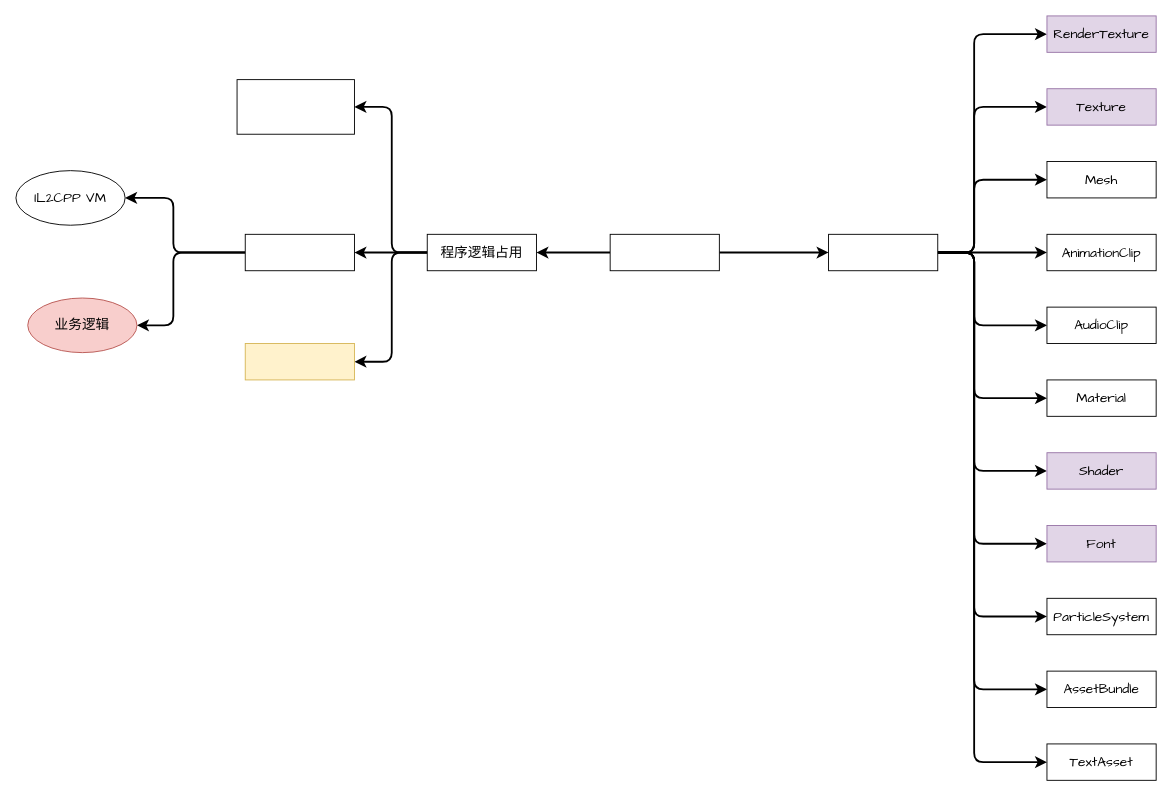
The diagram is 1172 pixels wide and 796 high, and some of its shapes have lost their labels. Here are the shapes that lost their labels. From the top down, the centre of each, then its label:
the point at 295,106: Assembly 程序集
the point at 299,252: 虚拟机
the point at 664,252: 内存占用
the point at 883,252: 资源占用
the point at 299,361: Native Heap
